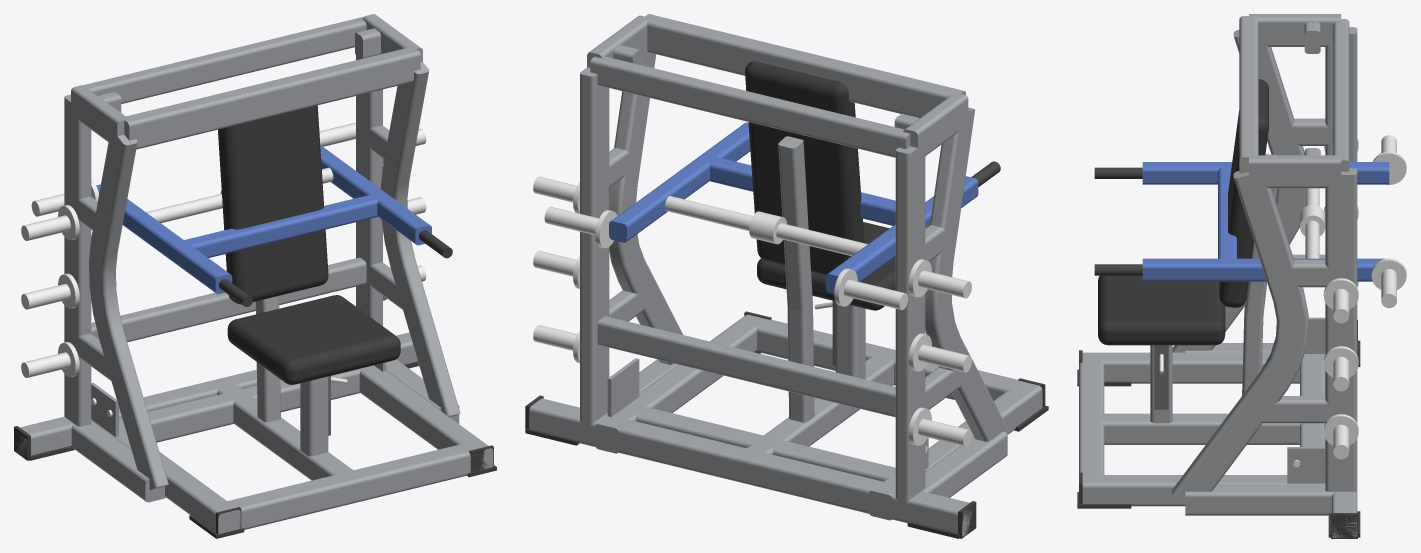
The picture shows the model from 3 angles, left to right: view 1: azimuth 30°, elevation 25°; view 2: azimuth 150°, elevation 25°; view 3: azimuth 270°, elevation 25°; orthographic projection. The views are drawn at different scales.
Parts seen in each view (by area): view 1: base, cage_leg_tube (×2), lever_support, backrest_pad, cage_post (×2), top_crossbar, seat_pad, lever_bar (×2), cage_rear_bar, lever, storage_horn (×3), cage_brace (×4) (+6 smaller); view 2: base, cage_post (×2), lever_support, cage_leg_tube (×2), backrest_pad, top_crossbar, cage_rear_bar, storage_horn (×6), backrest_support_tube, cage_top (×2), lever_bar (×2), cage_brace (×4) (+8 smaller); view 3: cage_leg_tube (×2), base, lever_support, cage_post (×2), seat_pad, cage_top (×2), lever_bar (×2), cage_brace (×3), storage_horn (×3), backrest_pad, top_crossbar, backrest_support_tube (+10 smaller).
Boxes of the visible parts, x1,y1,x2,y2 form: base: (15, 332, 493, 533); cage_leg_tube (×2): (88, 62, 460, 490); lever_support: (71, 17, 459, 502); backrest_pad: (218, 105, 328, 304); cage_post (×2): (64, 55, 382, 426); top_crossbar: (122, 47, 420, 149); seat_pad: (227, 295, 400, 384); lever_bar (×2): (130, 162, 431, 294); cage_rear_bar: (91, 257, 366, 342); lever: (183, 194, 383, 257); storage_horn (×3): (21, 205, 79, 377); cage_brace (×4): (71, 125, 402, 380); base: (529, 314, 1042, 536); cage_post (×2): (580, 67, 925, 502); lever_support: (590, 45, 1007, 497); cage_leg_tube (×2): (609, 35, 1008, 441); backrest_pad: (745, 61, 864, 275); top_crossbar: (645, 14, 965, 117); cage_rear_bar: (597, 316, 895, 417); storage_horn (×6): (533, 176, 971, 446); backrest_support_tube: (778, 136, 814, 422); cage_top (×2): (587, 15, 968, 159); lever_bar (×2): (653, 122, 978, 264); cage_brace (×4): (602, 148, 964, 409); cage_leg_tube (×2): (1172, 30, 1308, 502); base: (1079, 352, 1357, 537); lever_support: (1185, 19, 1349, 515); cage_post (×2): (1325, 27, 1357, 493); seat_pad: (1098, 275, 1225, 345); cage_top (×2): (1249, 14, 1341, 188); lever_bar (×2): (1142, 162, 1312, 281); cage_brace (×3): (1261, 118, 1341, 423); storage_horn (×3): (1323, 278, 1358, 459); backrest_pad: (1219, 79, 1268, 307); top_crossbar: (1239, 16, 1258, 173); backrest_support_tube: (1242, 154, 1277, 395).
Bounding box in the file's own units: 1.45 × 1.23 × 1.04.
